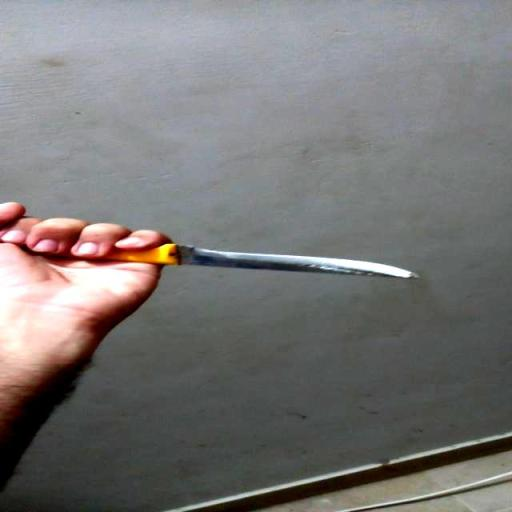knife: (55, 242, 420, 280)
